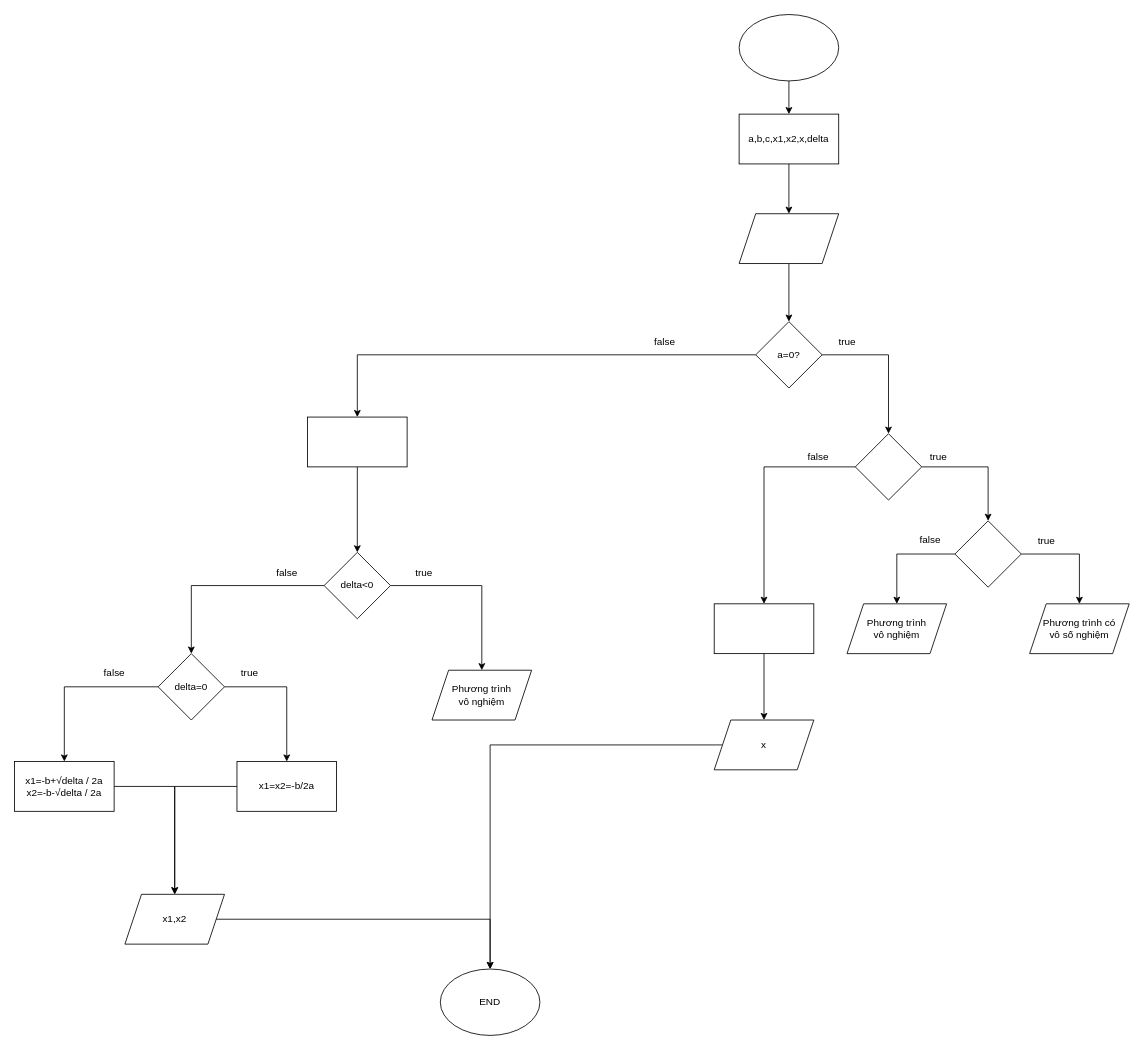
Image size: 1144x1050. Some labels were removed from this diagram. Each missing label, with the centre of its shape:
"a,b,c" belongs at [788,238].
"b=0" belongs at [888,466].
"c=0" belongs at [987,553].
"delta=b^2-4ac" belongs at [357,441].
"START" belongs at [788,47].
"x=-c/b" belongs at [763,628].
